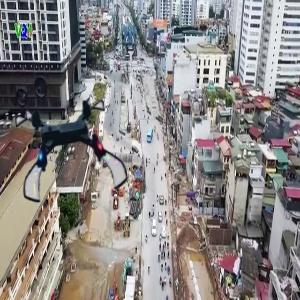drone: (18, 98, 127, 207)
